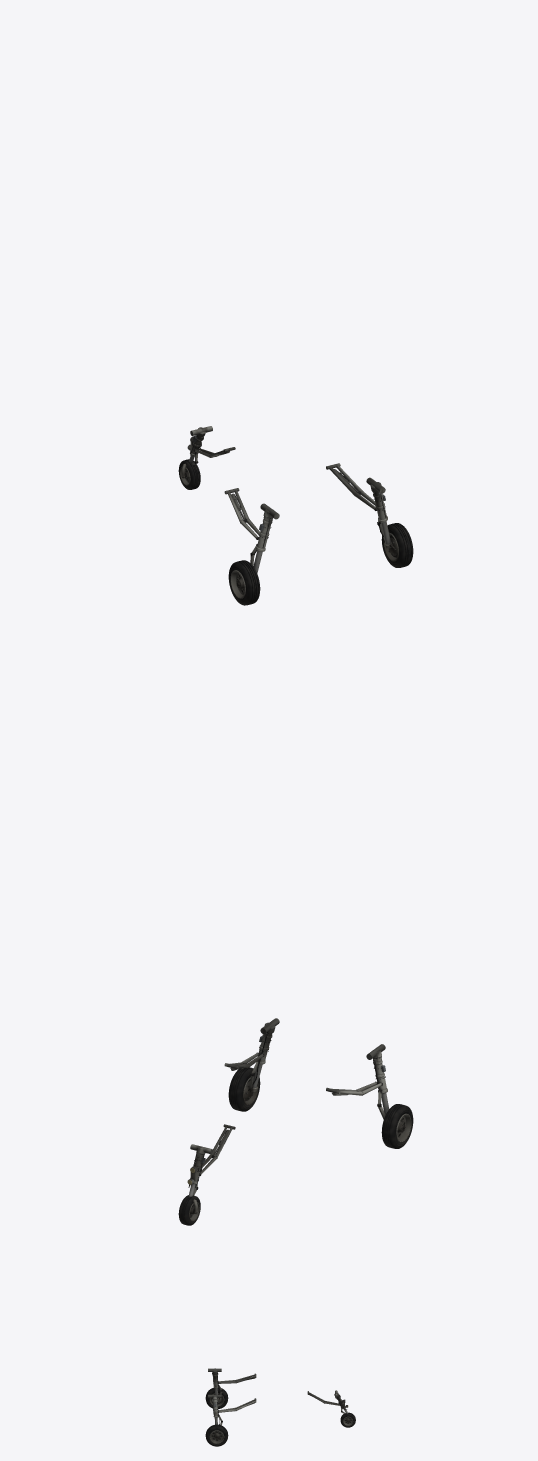
Rendered from f16_gear.glb.
The picture shows the model from 3 angles, top to bottom: view 1: azimuth 30°, elevation 25°; view 2: azimuth 150°, elevation 25°; view 3: azimuth 270°, elevation 25°; orthographic projection. The views are drawn at different scales.
Visible parts, largest first — view 1: gear_m_l, gear_m_r, gear_n; view 2: gear_m_l, gear_m_r, gear_n; view 3: gear_m_r, gear_m_l, gear_n.
Boxes of the visible parts, x1,y1,x2,y2 form: gear_m_l: (228,503,279,605); gear_m_r: (366,477,413,567); gear_n: (178,426,212,489); gear_m_l: (366,1044,413,1148); gear_m_r: (228,1018,279,1111); gear_n: (178,1144,212,1225); gear_m_r: (205,1394,228,1446); gear_m_l: (205,1368,228,1408); gear_n: (334,1390,355,1427).
Size of the model in its own units: 2.84 by 5.61 by 15.
1 material, 1 textured.
